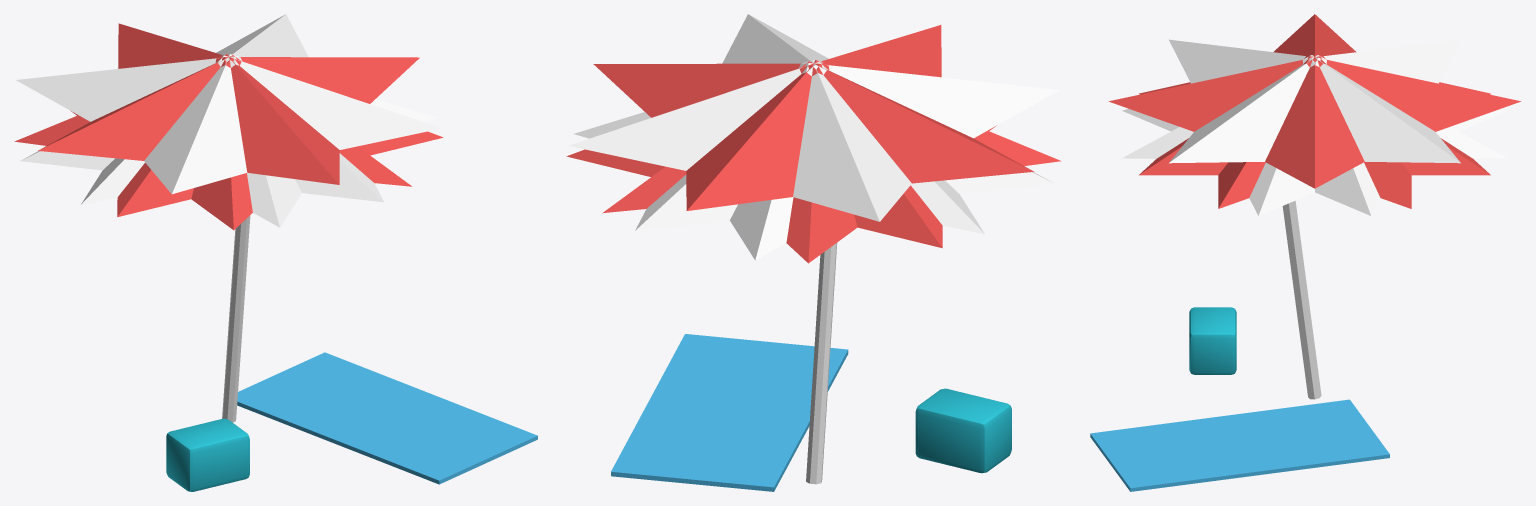
Rendered from journey_umbrella.glb.
3 views of the same model, side by side, from view 1: azimuth 30°, elevation 25°; view 2: azimuth 150°, elevation 25°; view 3: azimuth 270°, elevation 25° (orthographic). The views are drawn at different scales.
Visible parts, largest first — view 1: Umbrella_body; view 2: Umbrella_body; view 3: Umbrella_body.
Part boxes in pixels (box(x1,y1,x2,y2)): Umbrella_body: box(14, 14, 537, 491); Umbrella_body: box(566, 14, 1061, 491); Umbrella_body: box(1090, 14, 1520, 491).
Size of the model in its own units: 3.2 by 2.77 by 3.18.
